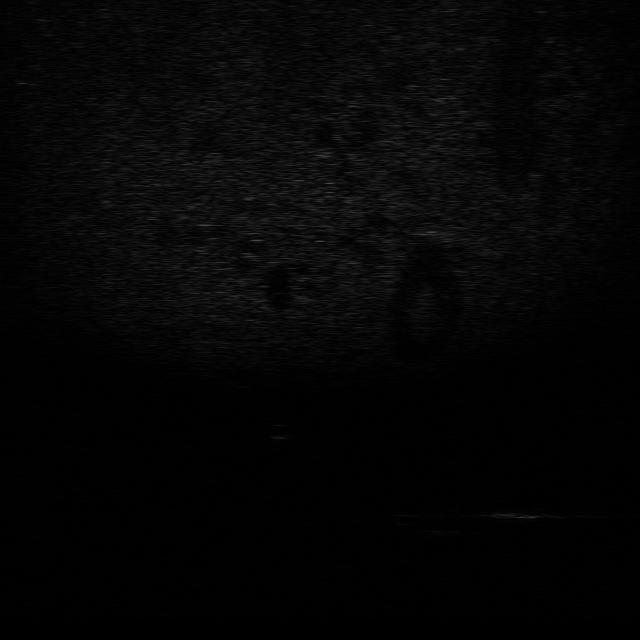ball: (259, 419, 296, 443)
metal bucket: (484, 502, 558, 522)
tyre: (398, 508, 473, 540)
